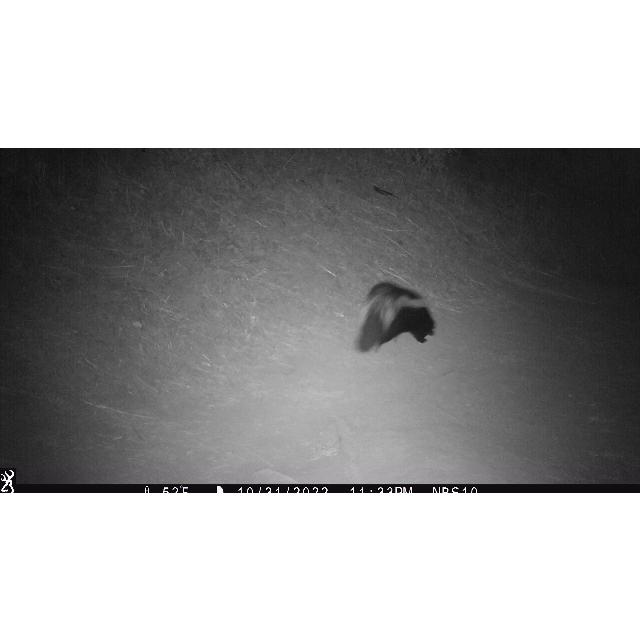animals: (354, 280, 436, 354)
